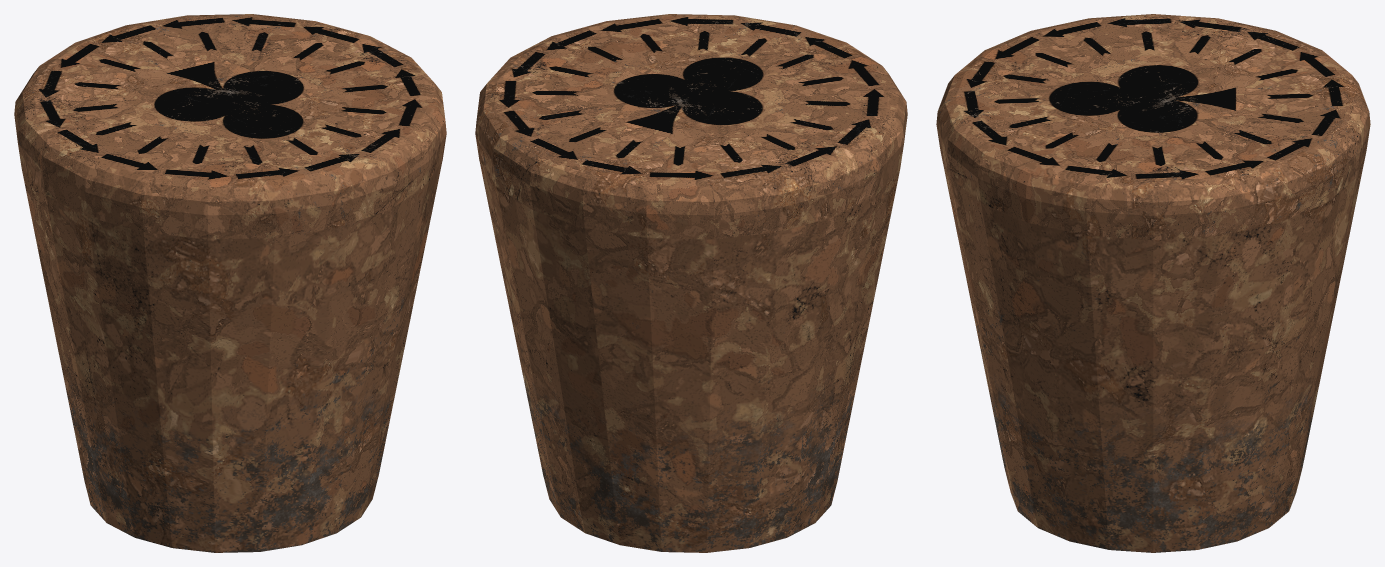
File: PlayingTable.fbx
3 views of the same model, side by side, from view 1: azimuth 30°, elevation 25°; view 2: azimuth 150°, elevation 25°; view 3: azimuth 270°, elevation 25° (orthographic).
Visible parts, largest first — view 1: Woodtable_sewer1:Playingtable; view 2: Woodtable_sewer1:Playingtable; view 3: Woodtable_sewer1:Playingtable.
Part boxes in pixels (x1=…): Woodtable_sewer1:Playingtable: x1=14, y1=14, x2=446, y2=552; Woodtable_sewer1:Playingtable: x1=475, y1=14, x2=907, y2=552; Woodtable_sewer1:Playingtable: x1=936, y1=14, x2=1370, y2=552.
Size of the model in its own units: 110 by 110 by 110.
